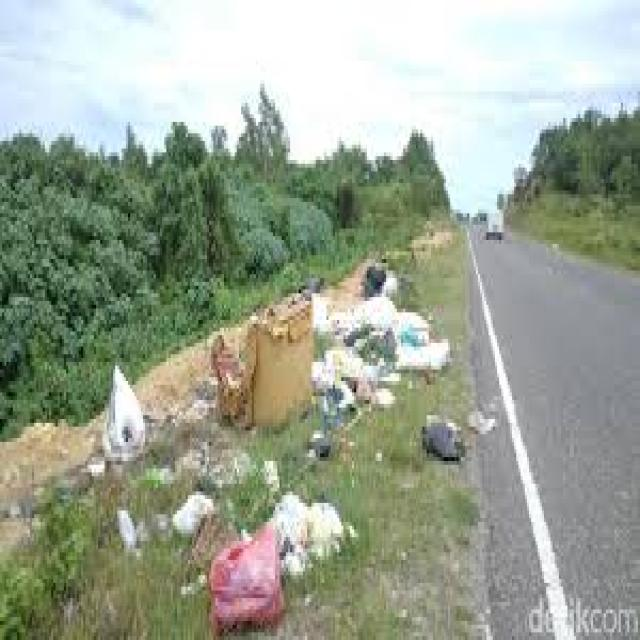trash: (98, 263, 506, 639)
